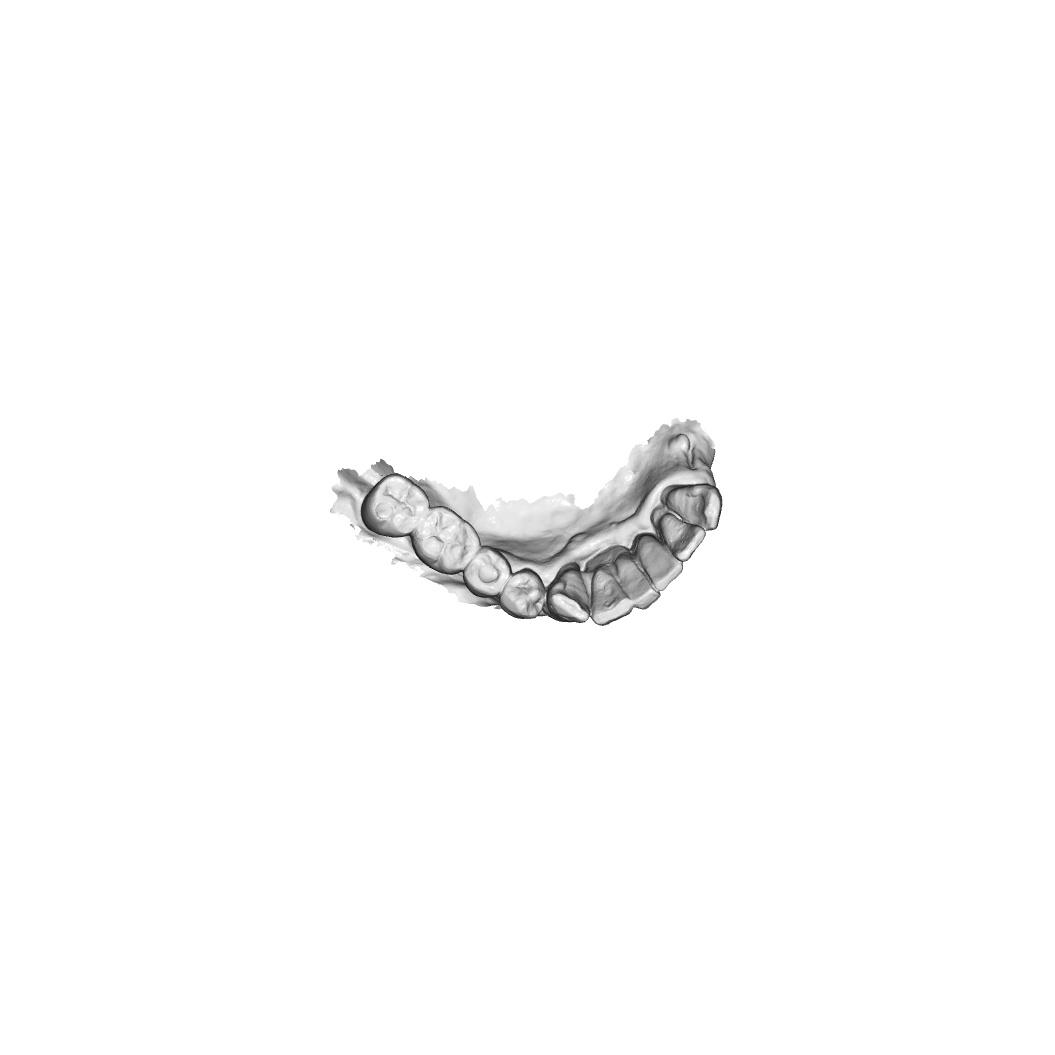canine: (664, 478, 725, 532), (546, 563, 592, 626)
incisor: (646, 503, 708, 566), (589, 558, 635, 627), (635, 541, 688, 593), (616, 558, 663, 612)
molar: (407, 506, 485, 577), (358, 471, 431, 540)
premolar: (462, 546, 516, 601), (497, 566, 550, 621)
